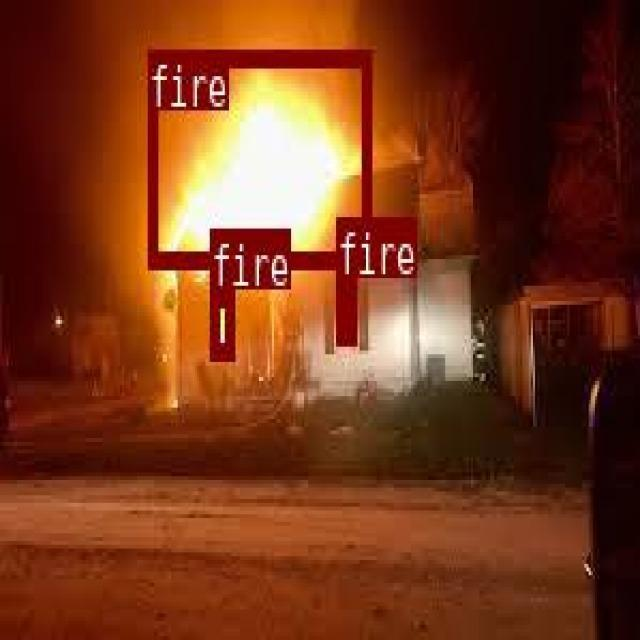fire: (147, 48, 369, 266), (210, 288, 232, 356), (335, 276, 354, 340)
